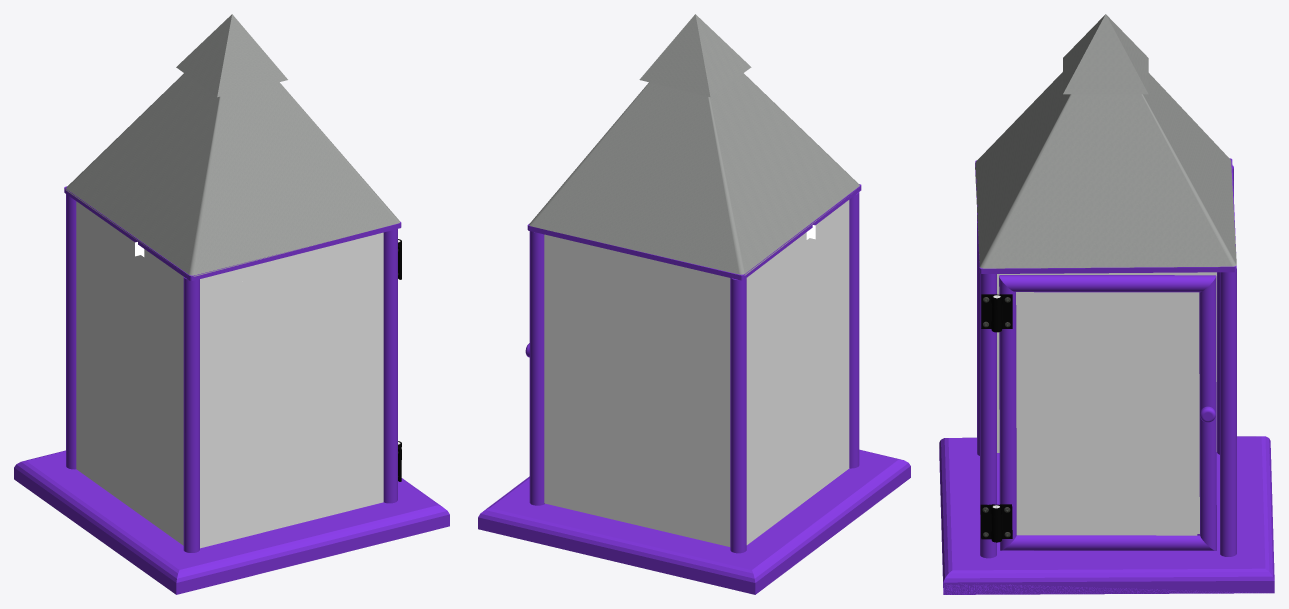
The model's file is Ensemble.glb.
3 renders of one model, left to right at view 1: azimuth 30°, elevation 25°; view 2: azimuth 150°, elevation 25°; view 3: azimuth 270°, elevation 25°, orthographic. The views are drawn at different scales.
Parts seen in each view (by area): view 1: Glass.004, Zinc.001, Glass.003, Wood.002, Wood.003, Wood.009, Wood.010, Wood.012, Wood.013; view 2: Glass.002, Zinc.001, Glass.003, Wood.004, Wood.003, Wood.012, Wood.011, Wood.009, Wood.013, Wood.001; view 3: Zinc.001, opening_door.006, Wood.001, Wood.002, Wood.011, Wood.004, opening_door.002, Wood.010, opening_door.003, opening_door.001, opening_door.004, Wood.013 (+6 smaller).
Boxes of the visible parts, x1,y1,x2,y2 form: Glass.004: (200,232,383,548); Zinc.001: (65,14,399,276); Glass.003: (76,201,183,545); Wood.002: (176,501,449,594); Wood.003: (14,461,189,594); Wood.009: (183,277,199,552); Wood.010: (383,229,397,503); Wood.012: (66,194,76,469); Wood.013: (64,186,401,280); Glass.002: (544,234,730,546); Zinc.001: (529,14,859,275); Glass.003: (746,200,849,544); Wood.004: (478,503,755,594); Wood.003: (741,459,910,594); Wood.012: (730,278,746,553); Wood.011: (529,231,544,505); Wood.009: (849,192,859,468); Wood.013: (527,184,861,280); Wood.001: (486,476,529,509); Zinc.001: (975,14,1236,268); opening_door.006: (1016,292,1199,535); Wood.001: (943,549,1274,594); Wood.002: (939,438,999,587); Wood.011: (1220,268,1236,556); Wood.004: (1216,436,1274,579); opening_door.002: (1199,276,1216,550); Wood.010: (980,273,996,558); opening_door.003: (999,276,1016,550); opening_door.001: (999,275,1215,292); opening_door.004: (1002,534,1214,550); Wood.013: (975,158,1236,273).
Bounding box in the file's own units: 78.85 × 134 × 78.85.
10 materials, 2 textured.
